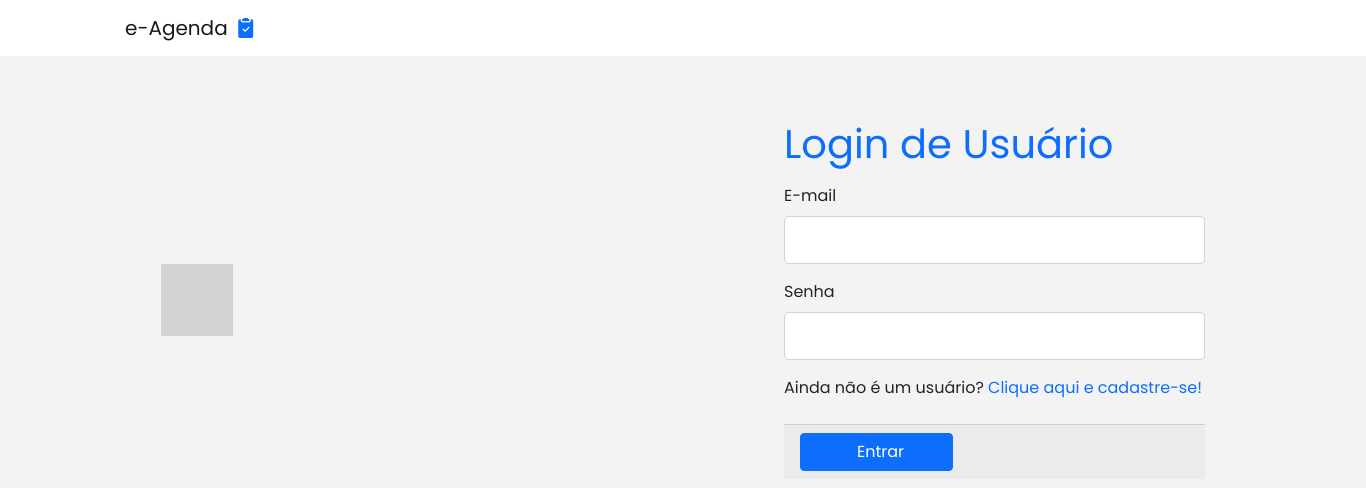
it: Processo de login do usuario › Deve validar senha vazio
Focus the password field labelled "Senha": x=995, y=336 [784,312,1205,360]
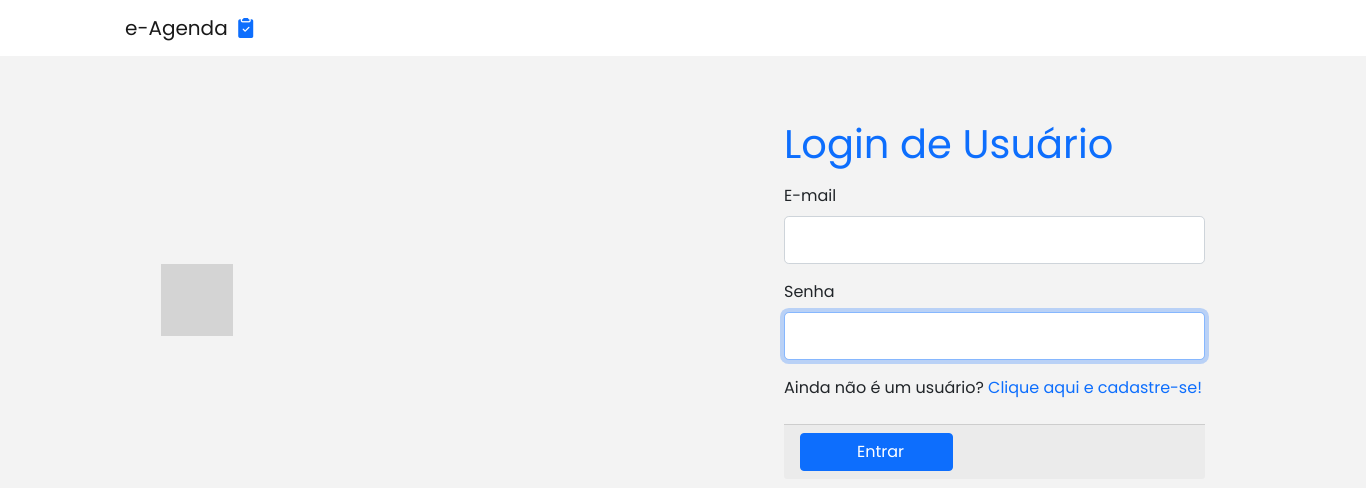
Focus the field labelled "E-mail": x=995, y=240 [784,216,1205,264]
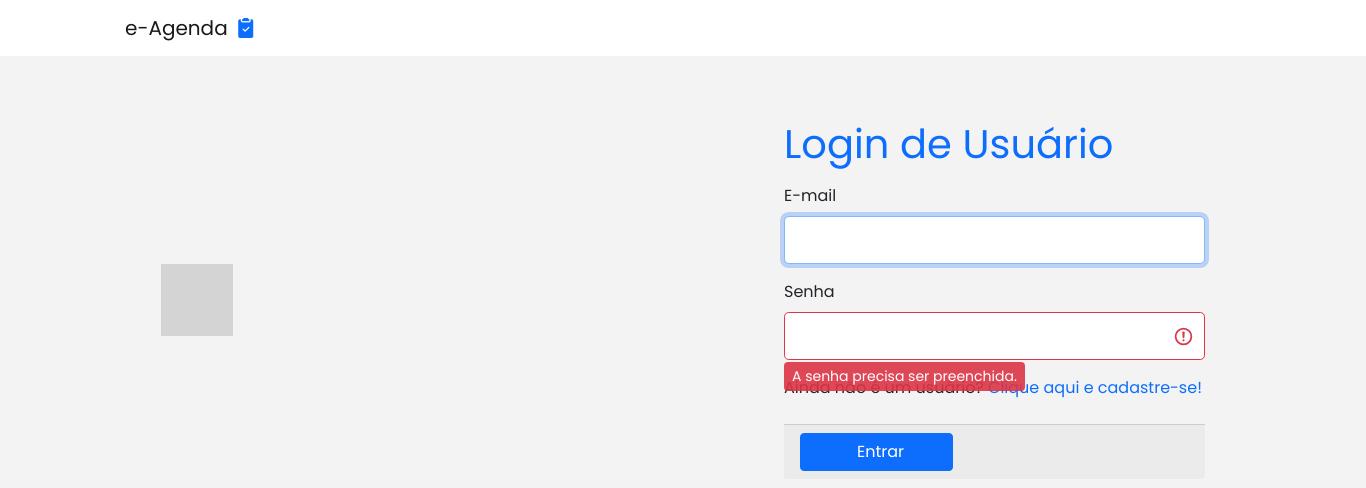
Now the text "A senha precisa ser preenchida" is shown, box [792,366,1017,386]
